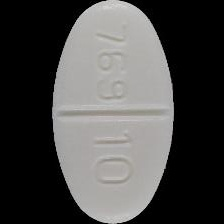65162-769: (0, 0, 224, 224)
